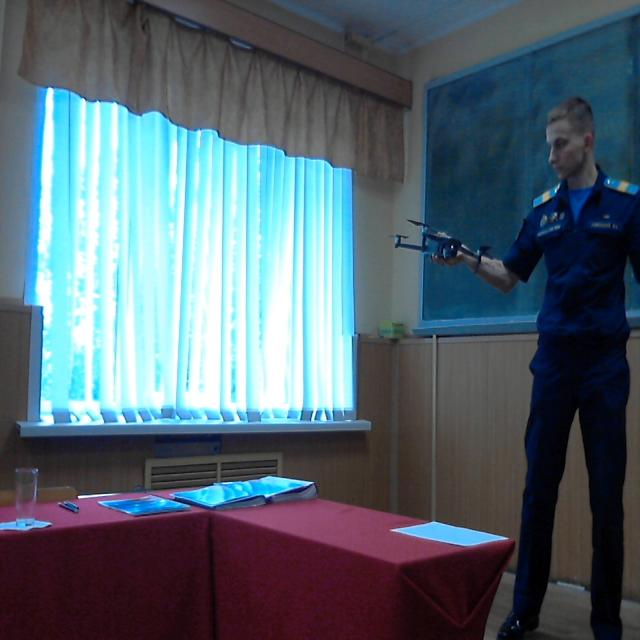drone: (375, 198, 499, 278)
